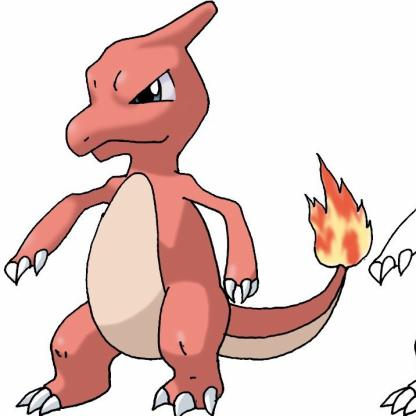Charmeleon: (1, 1, 404, 416)
